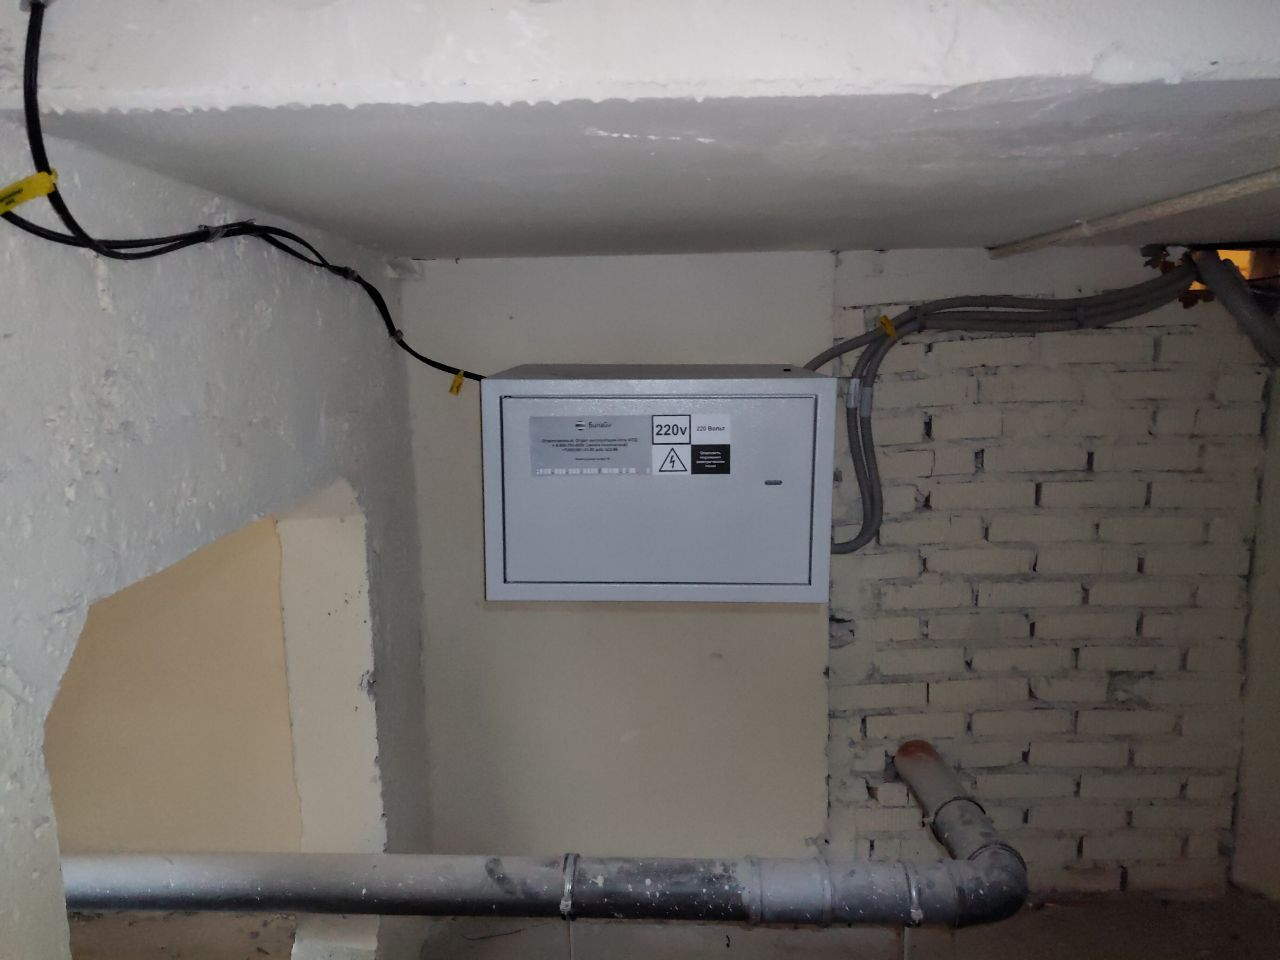shta-7m: (469, 352, 846, 613)
